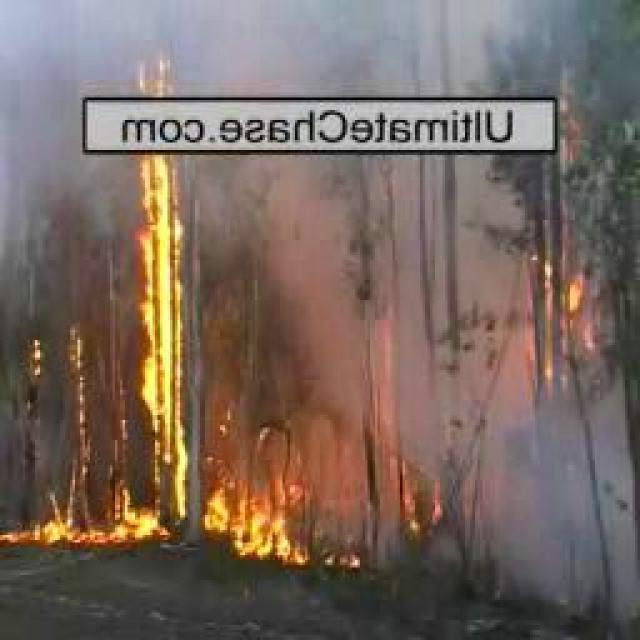Fire: (127, 53, 184, 558), (531, 237, 600, 389), (208, 483, 316, 574), (403, 457, 450, 541), (11, 515, 100, 544)
